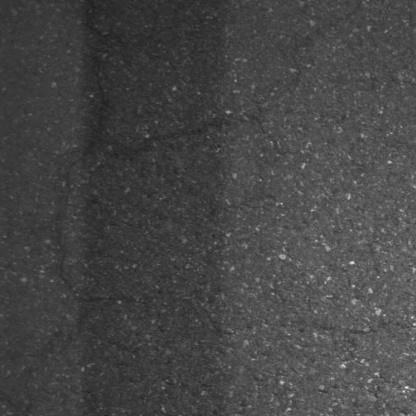Cracks: (57, 306, 87, 356), (91, 49, 107, 130), (57, 242, 79, 298), (85, 0, 112, 43), (87, 296, 148, 306), (4, 399, 36, 416), (55, 211, 62, 226)
